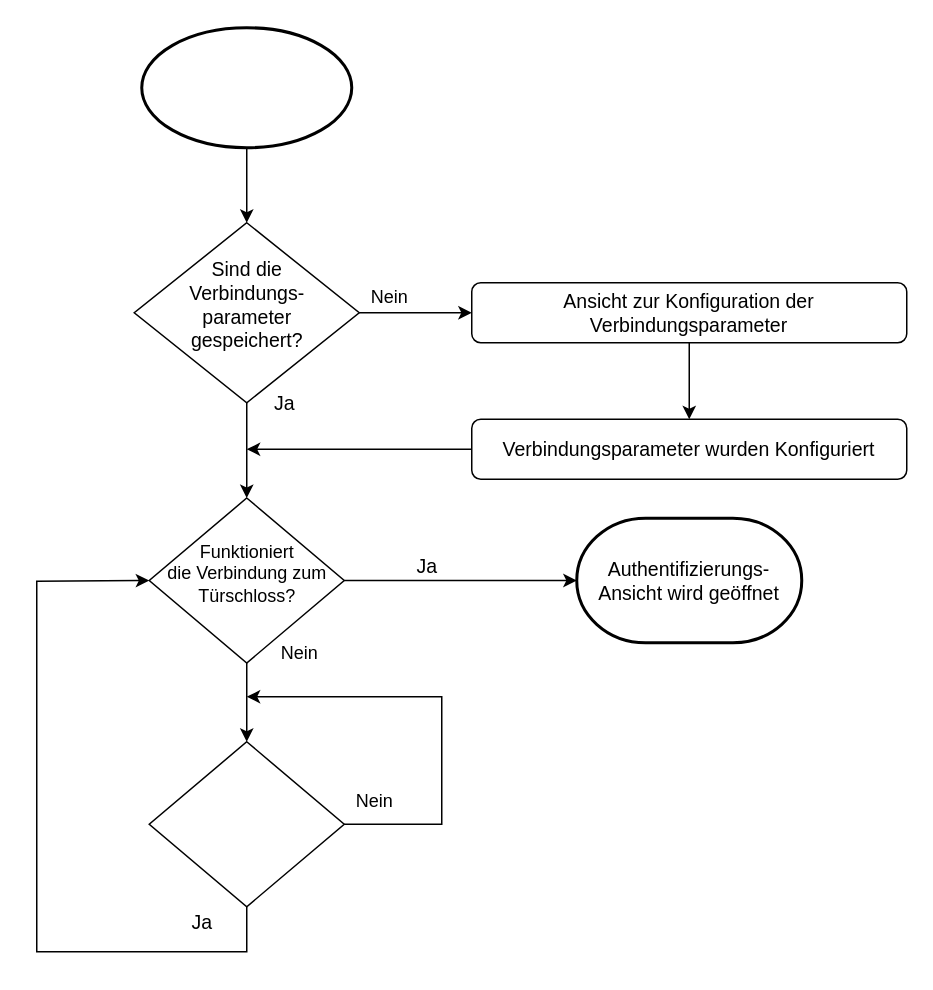
Image size: 933x990. Some labels were removed from this diagram. The box of each missing label's shape, as (x1, y1, x2, y2) in pixels:
Ist das Smartphone mit einem VPN Verbunden?: (148, 740, 344, 907)
Start der Applikation: (140, 26, 352, 148)
